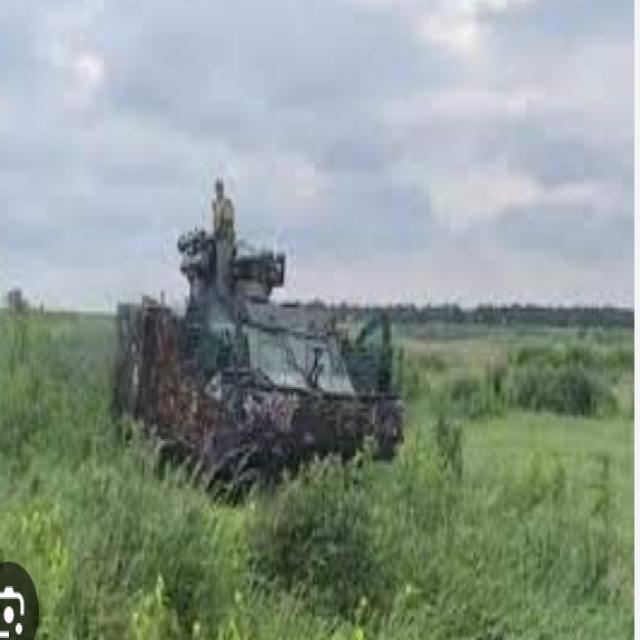MIL_APC: (114, 183, 422, 487)
